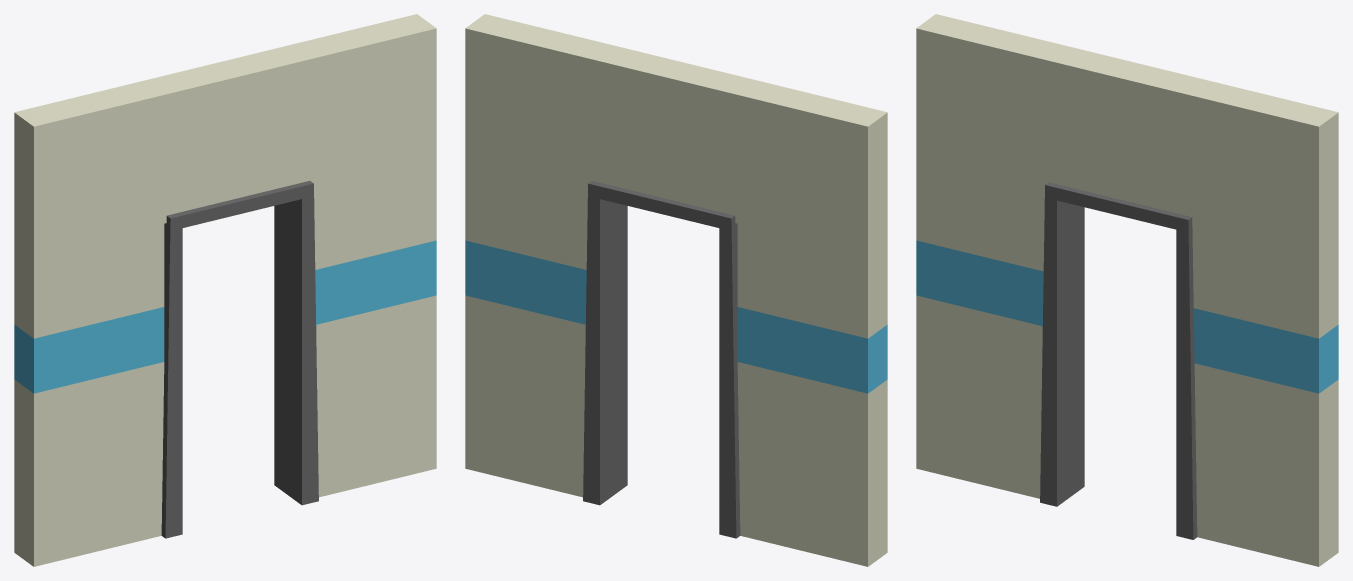
The model's file is door01-hospital.fbx.
3 views of the same model, side by side, from view 1: azimuth 30°, elevation 25°; view 2: azimuth 150°, elevation 25°; view 3: azimuth 330°, elevation 25° (orthographic).
Visible parts, largest first — view 1: door01-hospital; view 2: door01-hospital; view 3: door01-hospital.
Part boxes in pixels (<box>): door01-hospital: <box>14,14,436,566</box>; door01-hospital: <box>465,14,887,566</box>; door01-hospital: <box>916,14,1338,566</box>.
Size of the model in its own units: 543 by 567 by 64.2.
